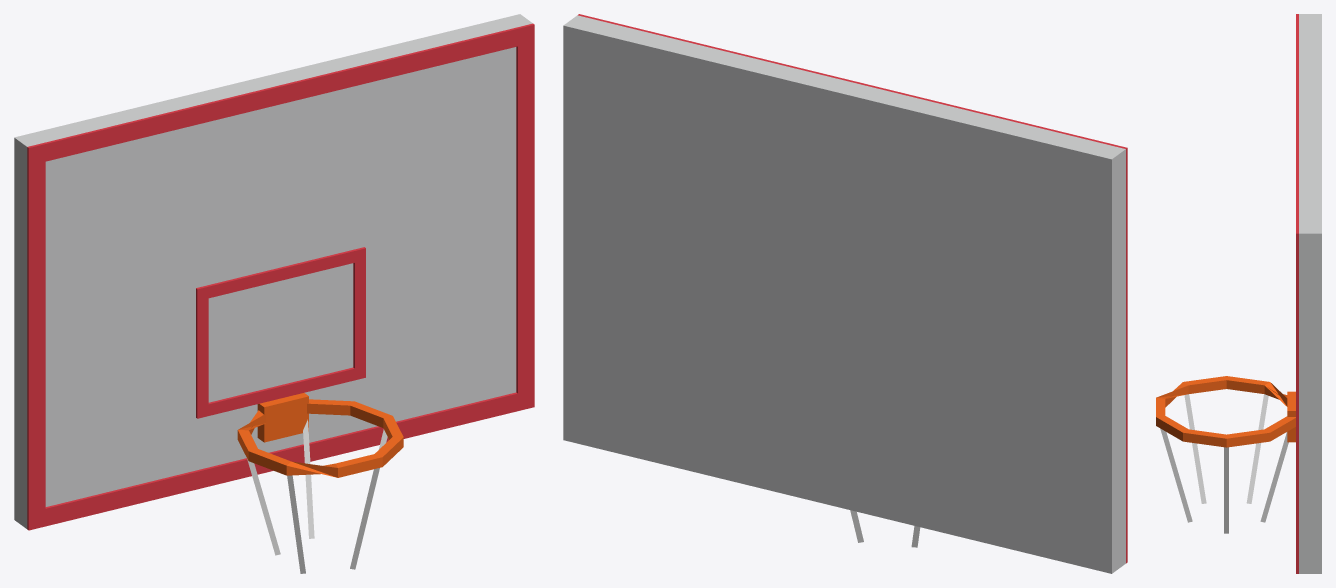
Rendered from mini_backboard.5b2b294125bc.glb.
The picture shows the model from 3 angles, left to right: view 1: azimuth 30°, elevation 25°; view 2: azimuth 150°, elevation 25°; view 3: azimuth 270°, elevation 25°; orthographic projection. The views are drawn at different scales.
Visible parts, largest first — view 1: mini_backboard; view 2: mini_backboard; view 3: mini_backboard.
Boxes of the visible parts, box(x1,y1,x2,y2) form: mini_backboard: box(14, 14, 534, 573); mini_backboard: box(563, 14, 1127, 573); mini_backboard: box(1156, 14, 1321, 573).
Size of the model in its own units: 0.9 by 0.7513 by 0.2872.
